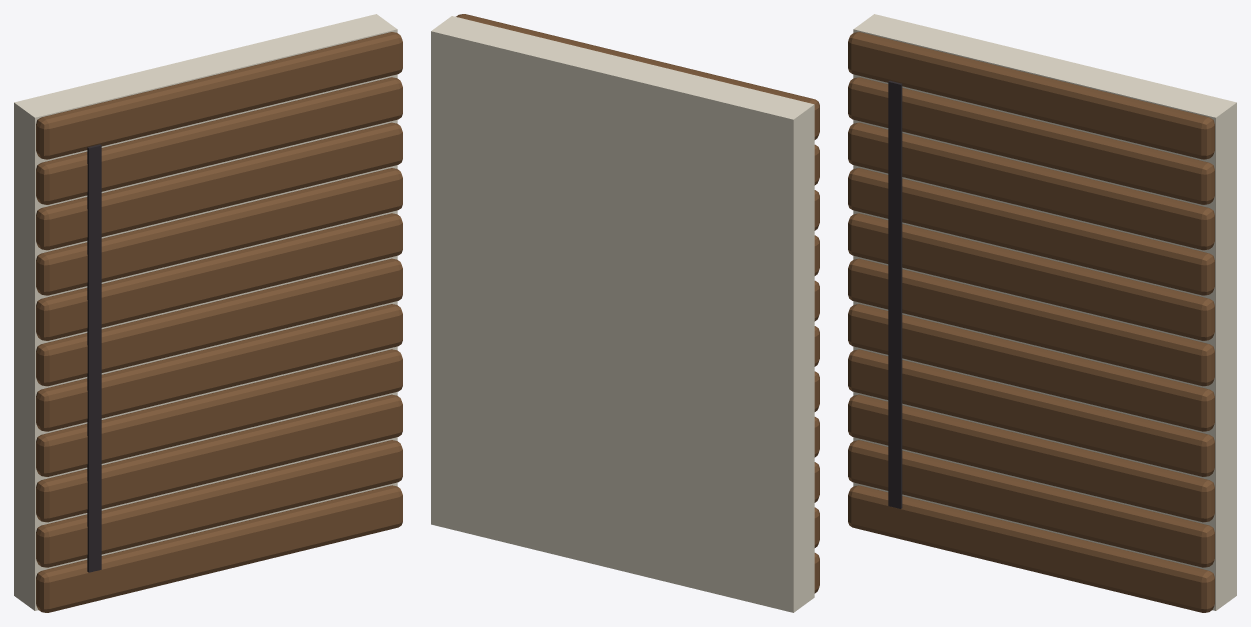
File: SM_Wall_RusticLog_01_Straight.fbx
3 views of the same model, side by side, from view 1: azimuth 30°, elevation 25°; view 2: azimuth 150°, elevation 25°; view 3: azimuth 330°, elevation 25° (orthographic).
Visible parts, largest first — view 1: SM_Wall_RusticLog_01_Straight_Panel, SM_Wall_RusticLog_01_Straight_Log10, SM_Wall_RusticLog_01_Straight_Log0, SM_Wall_RusticLog_01_Straight_Log1, SM_Wall_RusticLog_01_Straight_Log2, SM_Wall_RusticLog_01_Straight_Log4, SM_Wall_RusticLog_01_Straight_Log5, SM_Wall_RusticLog_01_Straight_Log7, SM_Wall_RusticLog_01_Straight_Log8, SM_Wall_RusticLog_01_Straight_Log3, SM_Wall_RusticLog_01_Straight_Log6, SM_Wall_RusticLog_01_Straight_Log9 (+1 smaller); view 2: SM_Wall_RusticLog_01_Straight_Panel, SM_Wall_RusticLog_01_Straight_Log10; view 3: SM_Wall_RusticLog_01_Straight_Panel, SM_Wall_RusticLog_01_Straight_Log10, SM_Wall_RusticLog_01_Straight_Log0, SM_Wall_RusticLog_01_Straight_Log2, SM_Wall_RusticLog_01_Straight_Log5, SM_Wall_RusticLog_01_Straight_Log1, SM_Wall_RusticLog_01_Straight_Log4, SM_Wall_RusticLog_01_Straight_Log8, SM_Wall_RusticLog_01_Straight_Log6, SM_Wall_RusticLog_01_Straight_Log7, SM_Wall_RusticLog_01_Straight_Log3, SM_Wall_RusticLog_01_Straight_Log9 (+1 smaller).
Boxes of the visible parts, x1,y1,x2,y2 form: SM_Wall_RusticLog_01_Straight_Panel: (14, 14, 397, 610); SM_Wall_RusticLog_01_Straight_Log10: (36, 32, 402, 159); SM_Wall_RusticLog_01_Straight_Log0: (36, 485, 402, 612); SM_Wall_RusticLog_01_Straight_Log1: (36, 440, 402, 567); SM_Wall_RusticLog_01_Straight_Log2: (36, 394, 402, 522); SM_Wall_RusticLog_01_Straight_Log4: (36, 304, 402, 431); SM_Wall_RusticLog_01_Straight_Log5: (36, 258, 402, 386); SM_Wall_RusticLog_01_Straight_Log7: (36, 168, 402, 295); SM_Wall_RusticLog_01_Straight_Log8: (36, 122, 402, 250); SM_Wall_RusticLog_01_Straight_Log3: (36, 349, 402, 476); SM_Wall_RusticLog_01_Straight_Log6: (36, 213, 402, 340); SM_Wall_RusticLog_01_Straight_Log9: (36, 77, 402, 204); SM_Wall_RusticLog_01_Straight_Panel: (431, 16, 814, 612); SM_Wall_RusticLog_01_Straight_Log10: (456, 14, 819, 139); SM_Wall_RusticLog_01_Straight_Panel: (853, 14, 1236, 610); SM_Wall_RusticLog_01_Straight_Log10: (848, 32, 1214, 159); SM_Wall_RusticLog_01_Straight_Log0: (848, 485, 1214, 612); SM_Wall_RusticLog_01_Straight_Log2: (848, 394, 1214, 522); SM_Wall_RusticLog_01_Straight_Log5: (848, 258, 1214, 386); SM_Wall_RusticLog_01_Straight_Log1: (848, 440, 1214, 567); SM_Wall_RusticLog_01_Straight_Log4: (848, 304, 1214, 431); SM_Wall_RusticLog_01_Straight_Log8: (848, 122, 1214, 250); SM_Wall_RusticLog_01_Straight_Log6: (848, 213, 1214, 340); SM_Wall_RusticLog_01_Straight_Log7: (848, 168, 1214, 295); SM_Wall_RusticLog_01_Straight_Log3: (848, 349, 1214, 476); SM_Wall_RusticLog_01_Straight_Log9: (848, 77, 1214, 204).
Size of the model in its own units: 2 by 2.6 by 0.2925.
